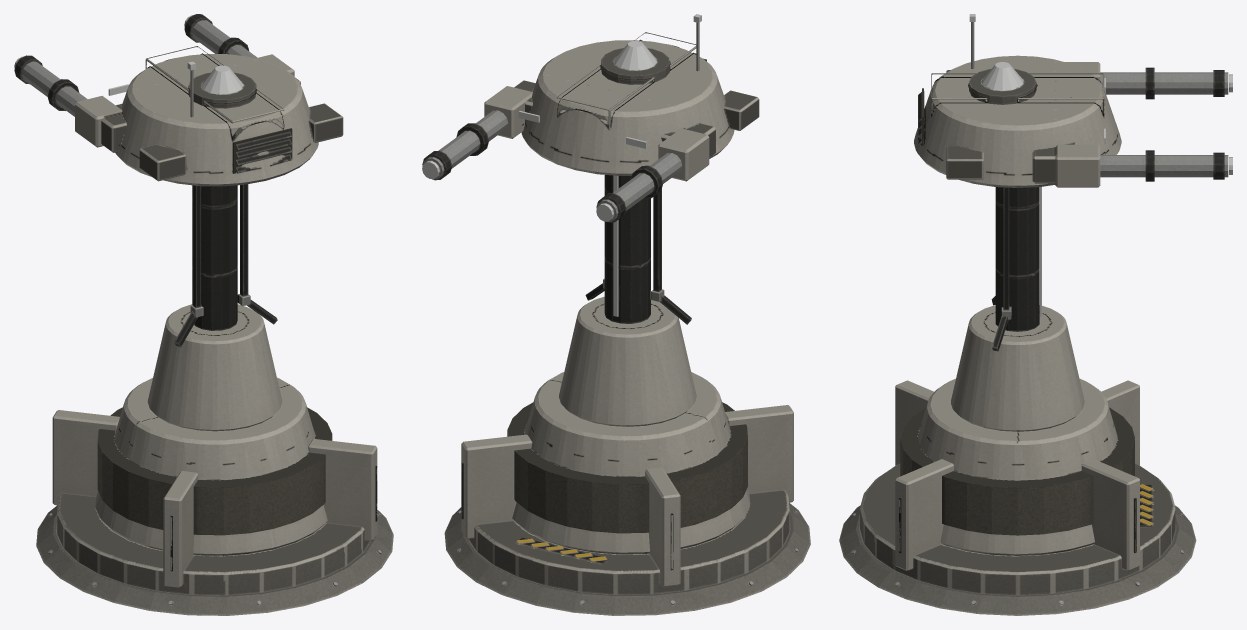
Rendered from ord_overwatch.fbx.
The picture shows the model from 3 angles, left to right: view 1: azimuth 30°, elevation 25°; view 2: azimuth 150°, elevation 25°; view 3: azimuth 270°, elevation 25°; orthographic projection. The views are drawn at different scales.
Parts seen in each view (by area): view 1: base_bar, turret_bar, barrel1_bar, barrel2_bar, turret_glow_running_bar, mount_bar; view 2: base_bar, turret_bar, barrel1_bar, barrel2_bar, turret_glow_running_bar, mount_bar, base_glow_running_bar; view 3: base_bar, turret_bar, barrel2_bar, barrel1_bar, turret_glow_running_bar, mount_bar.
Boxes of the visible parts, x1=… form: base_bar: x1=36, y1=128, x2=393, y2=615; turret_bar: x1=115, y1=46, x2=343, y2=186; barrel1_bar: x1=14, y1=55, x2=122, y2=147; barrel2_bar: x1=184, y1=14, x2=294, y2=76; turret_glow_running_bar: x1=108, y1=61, x2=243, y2=95; mount_bar: x1=101, y1=78, x2=300, y2=152; base_bar: x1=444, y1=175, x2=810, y2=615; turret_bar: x1=521, y1=22, x2=759, y2=175; barrel1_bar: x1=596, y1=128, x2=709, y2=222; barrel2_bar: x1=422, y1=86, x2=532, y2=180; turret_glow_running_bar: x1=518, y1=14, x2=701, y2=148; mount_bar: x1=514, y1=80, x2=715, y2=157; base_glow_running_bar: x1=613, y1=175, x2=618, y2=316; base_bar: x1=839, y1=187, x2=1196, y2=615; turret_bar: x1=914, y1=22, x2=1121, y2=187; barrel2_bar: x1=1055, y1=144, x2=1228, y2=187; barrel1_bar: x1=1065, y1=62, x2=1228, y2=99; turret_glow_running_bar: x1=969, y1=14, x2=1105, y2=144; mount_bar: x1=1032, y1=142, x2=1077, y2=183.
Size of the model in its own units: 950 by 1676 by 1047.
2 materials, 2 textured.
